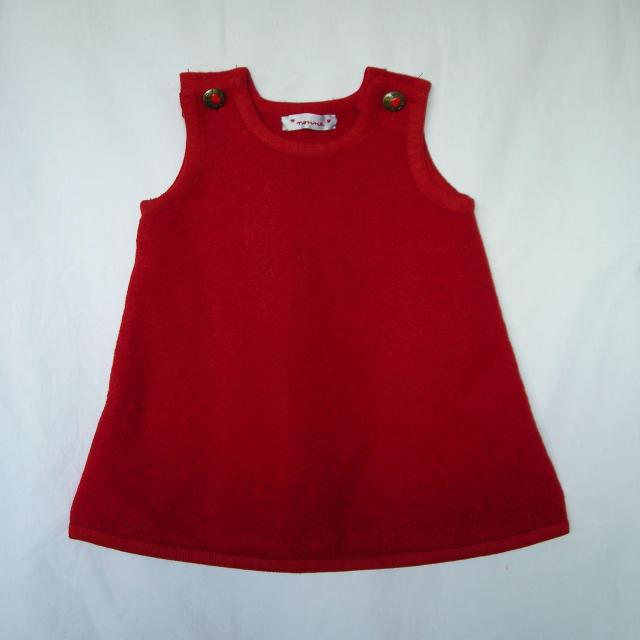Dress: (70, 65, 576, 574)
